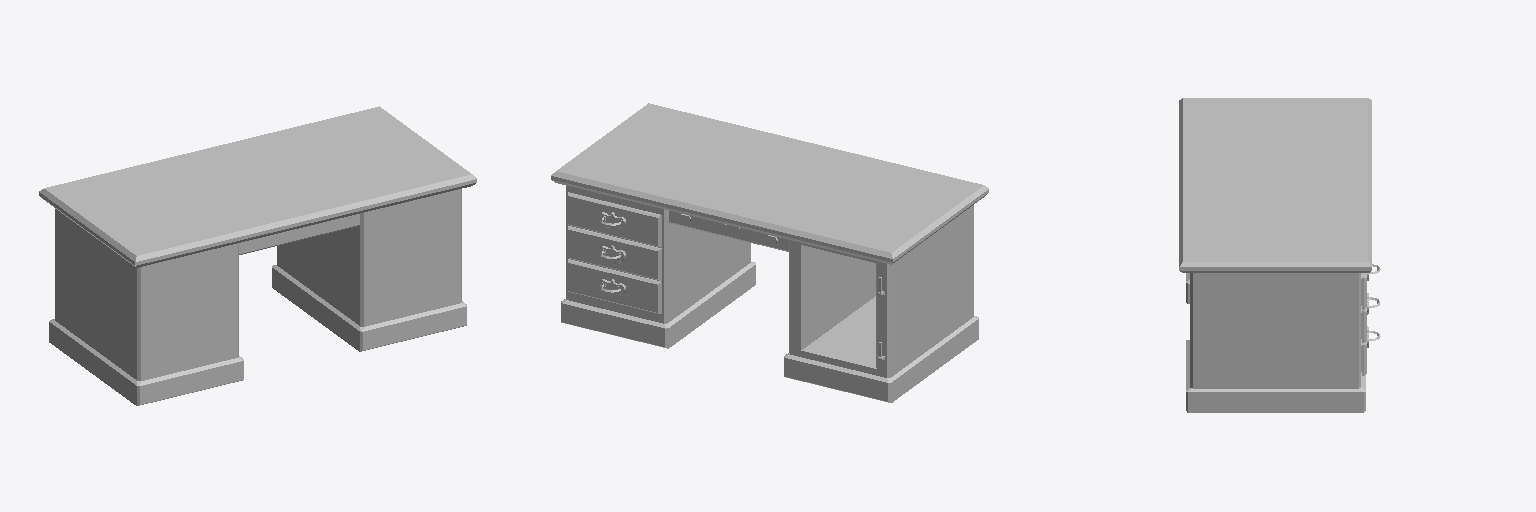
File: workdesk.obj
3 views of the same model, side by side, from view 1: azimuth 30°, elevation 25°; view 2: azimuth 150°, elevation 25°; view 3: azimuth 270°, elevation 25° (orthographic).
Visible parts, largest first — view 1: work_desk_table_mesh; view 2: work_desk_table_mesh, work_desk_drawer03_me, work_desk_drawer01_me, work_desk_drawer02_me; view 3: work_desk_table_mesh.
Part boxes in pixels (bbox=[...]): work_desk_table_mesh: bbox=[39, 106, 476, 405]; work_desk_table_mesh: bbox=[551, 103, 988, 402]; work_desk_drawer03_me: bbox=[568, 259, 661, 313]; work_desk_drawer01_me: bbox=[568, 192, 661, 247]; work_desk_drawer02_me: bbox=[568, 226, 661, 280]; work_desk_table_mesh: bbox=[1179, 98, 1371, 412].
Size of the model in its own units: 2.34 by 1 by 1.2.